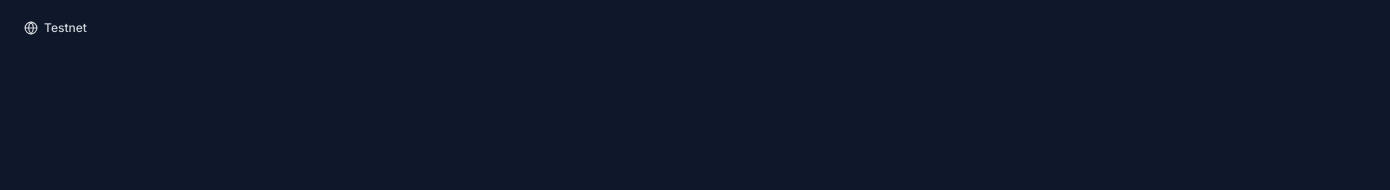
Test case: NetworkSwitcher › opens the menu and lists all networks
The width and height of the screenshot is (1390, 190).
Click the button with aria-label "Current network" at (55, 28), box [12,12,99,44]
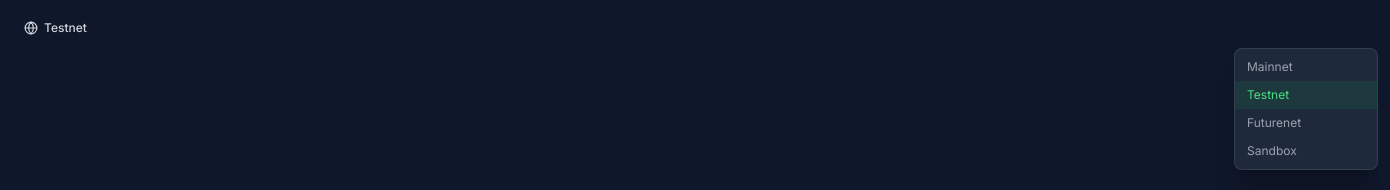
Now the button "Mainnet" is shown, box [1235,53,1377,81]
Now the button "Futurenet" is shown, box [1235,109,1377,137]
Now the button "Sandbox" is shown, box [1235,137,1377,165]
